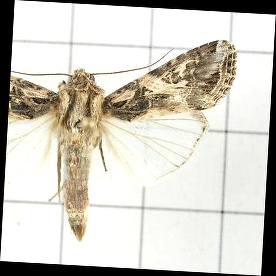Spodoptera litura: (7, 33, 233, 244)
